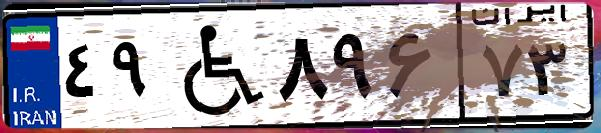3: (525, 38, 570, 115)
4: (57, 26, 110, 100)
6: (385, 28, 445, 110)
7: (475, 38, 525, 113)
8: (270, 28, 330, 110)
9: (330, 28, 385, 110), (110, 28, 158, 98)
ژ (معلولین و جانبازان): (158, 12, 270, 120)
